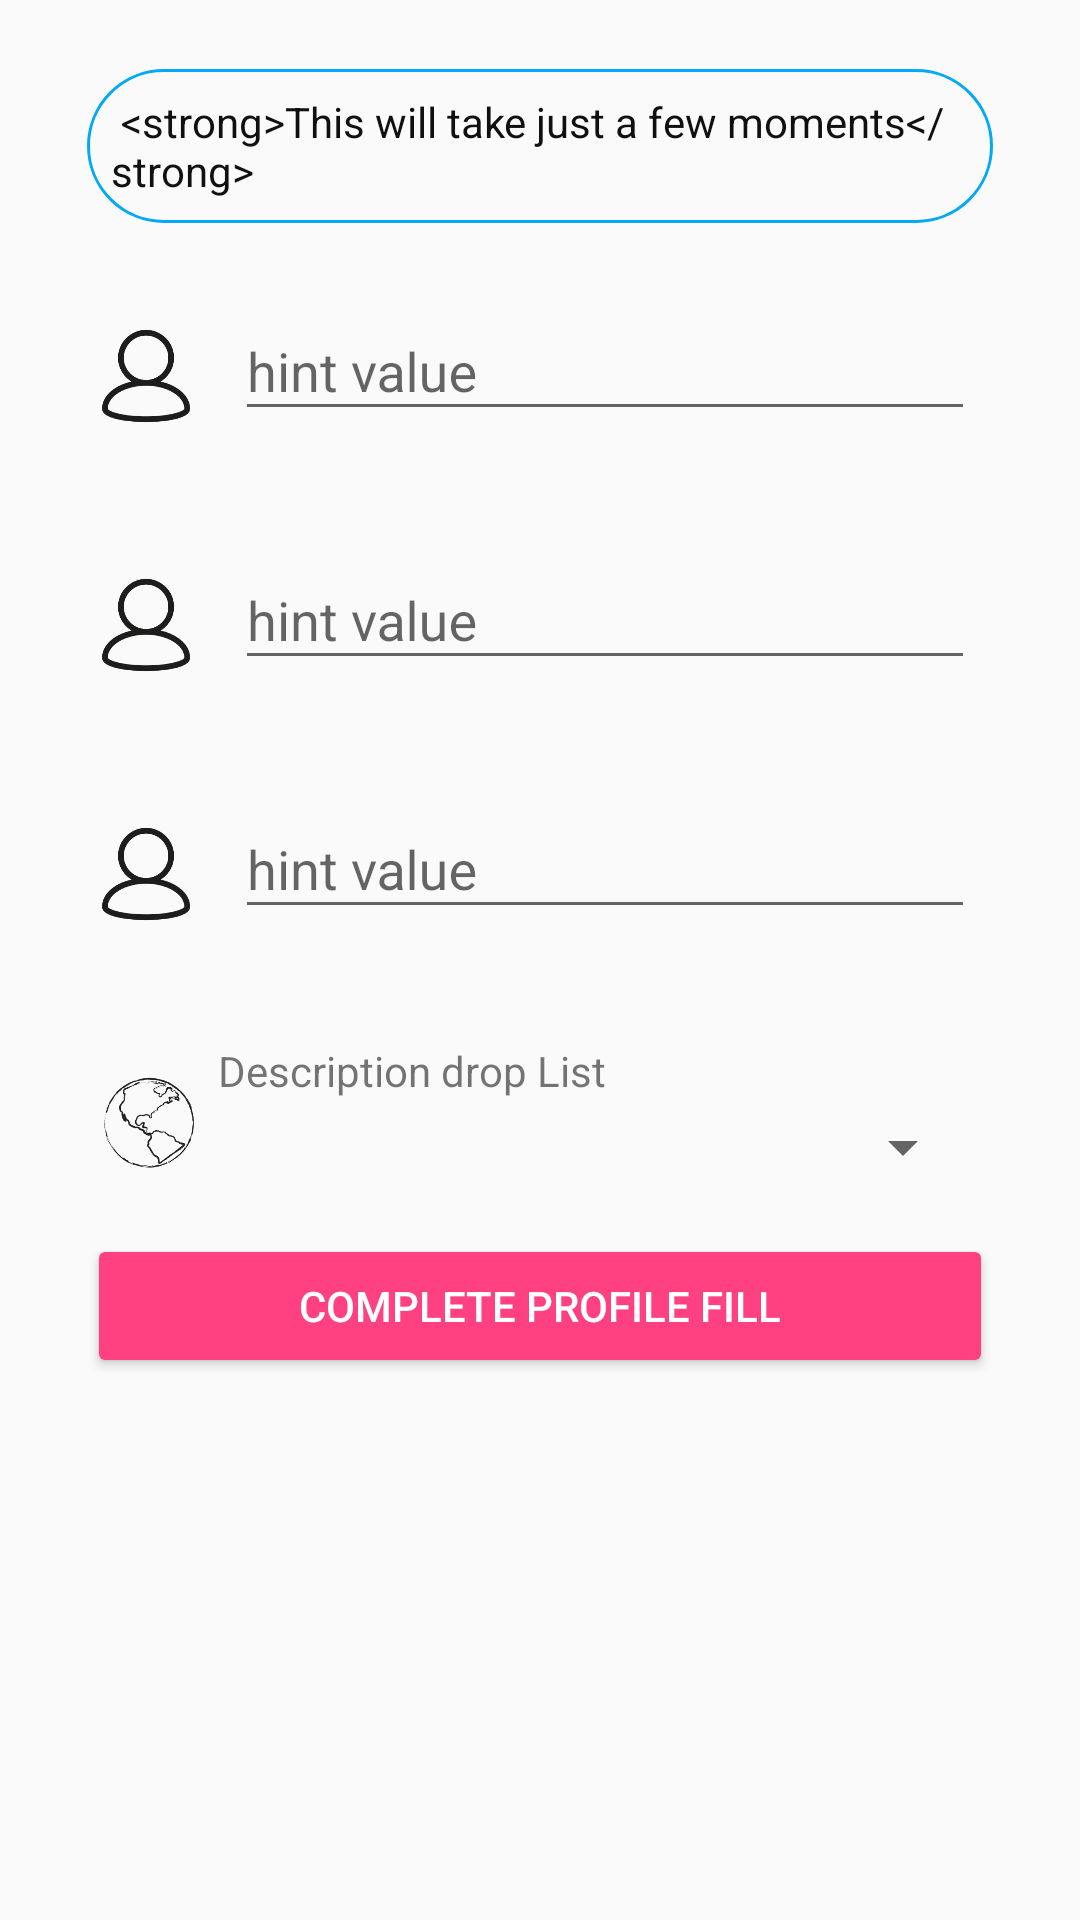

Point at icon controls on the screen. Image size 1080 × 1920, points as (x=x, y=y).
country: (x=149, y=1122)
person: (x=146, y=376), (x=146, y=625), (x=146, y=874)
